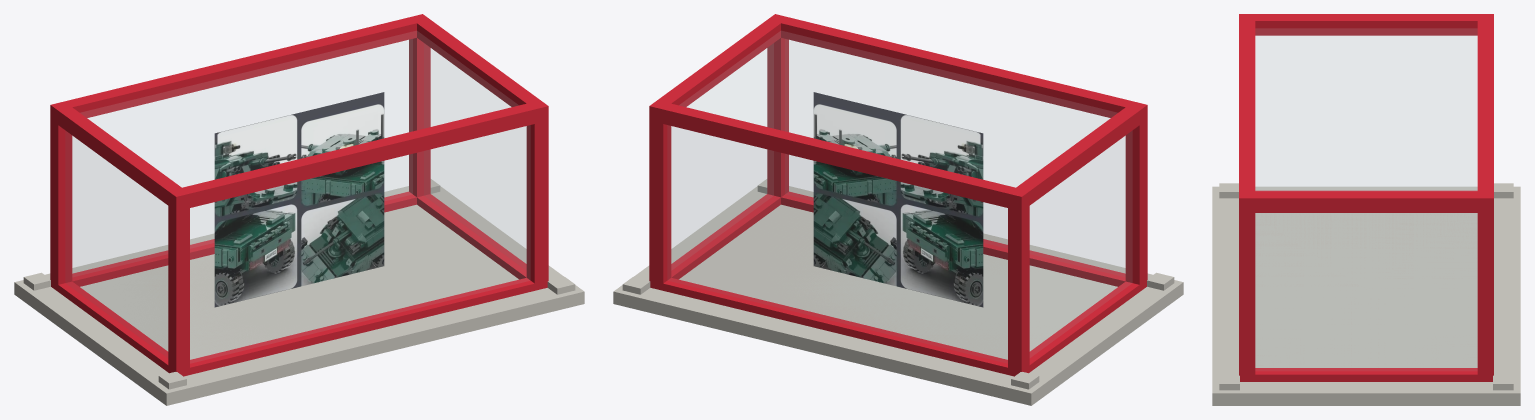
Rendered from jaguar-erb-khuyagt.glb.
3 views of the same model, side by side, from view 1: azimuth 30°, elevation 25°; view 2: azimuth 150°, elevation 25°; view 3: azimuth 270°, elevation 25° (orthographic).
Bounding box in the file's own units: 0.211 × 0.0935 × 0.133.
4 materials, 1 textured.
